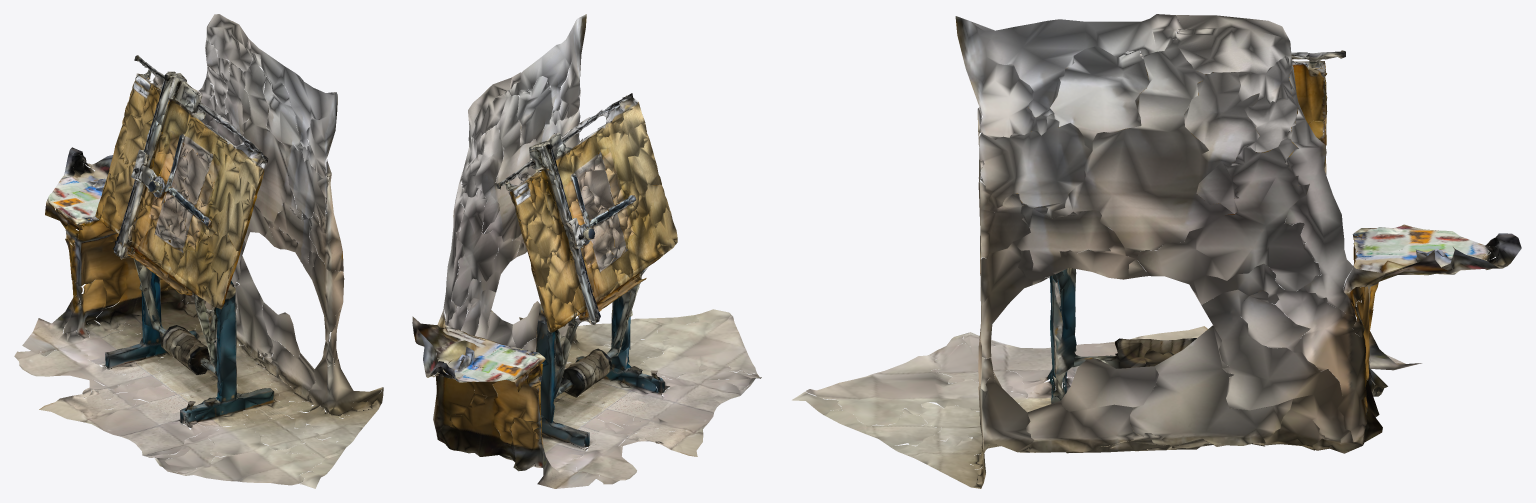
Rendered from board.glb.
The picture shows the model from 3 angles, left to right: view 1: azimuth 30°, elevation 25°; view 2: azimuth 150°, elevation 25°; view 3: azimuth 270°, elevation 25°; orthographic projection. The views are drawn at different scales.
Parts seen in each view (by area): view 1: Mesh_0; view 2: Mesh_0; view 3: Mesh_0.
Boxes of the visible parts, x1,y1,x2,y2 form: Mesh_0: (14, 14, 383, 488); Mesh_0: (412, 14, 761, 488); Mesh_0: (792, 14, 1521, 488).
Bounding box in the file's own units: 1.88 × 2.27 × 3.37.
Materials: 1 (1 with a texture image).
